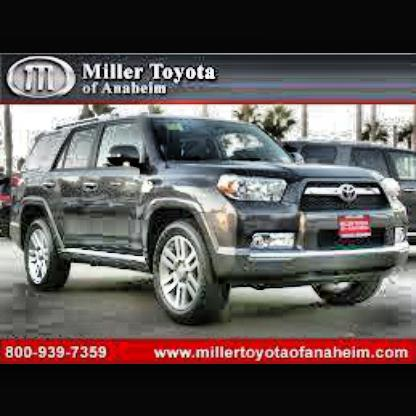Toyota 4Runner SUV 2012: (11, 117, 412, 325)
